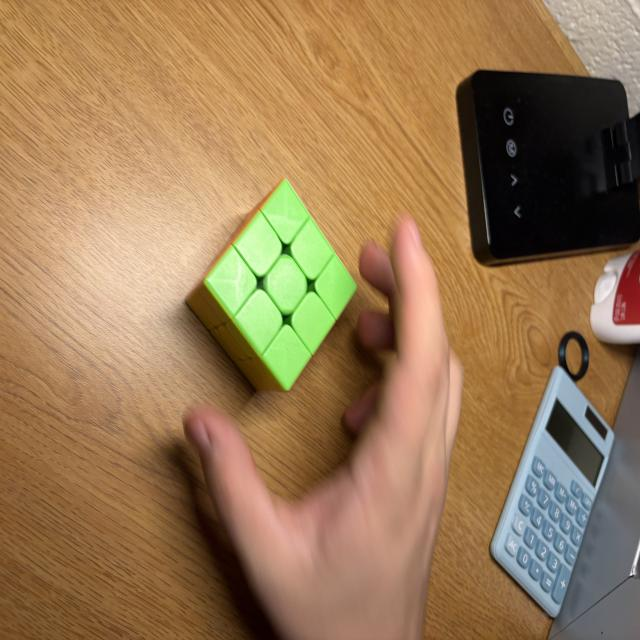Rubiks Cube: (184, 182, 357, 395)
